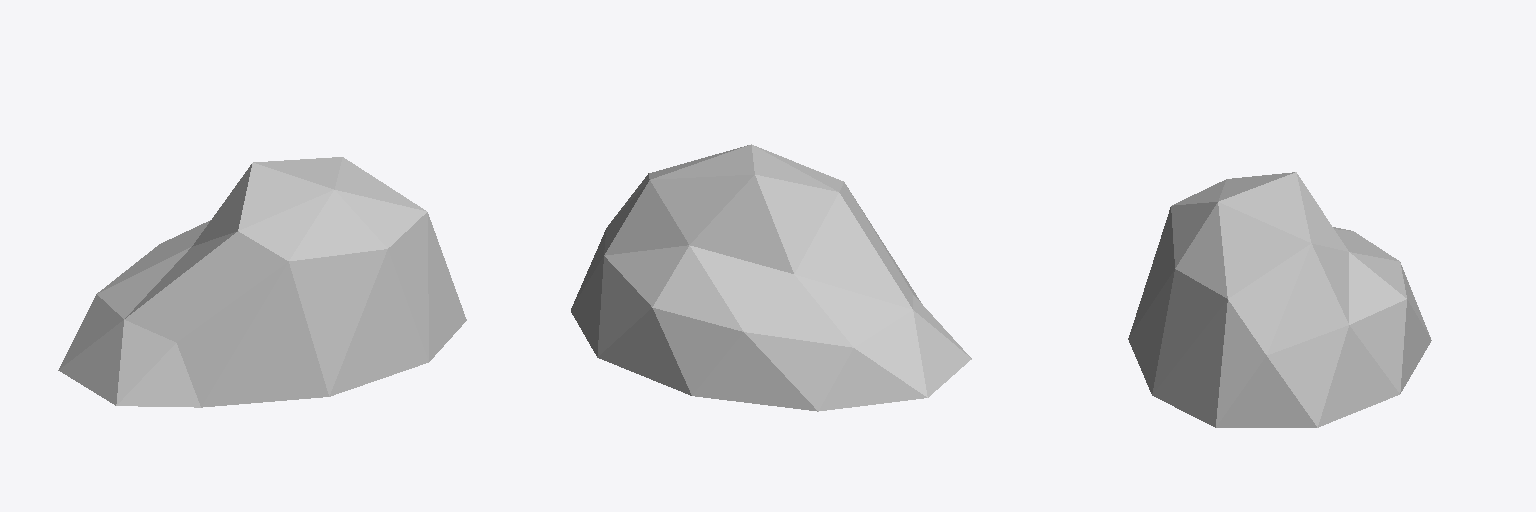
File: Rock_1_001.obj
The picture shows the model from 3 angles: view 1: azimuth 30°, elevation 25°; view 2: azimuth 150°, elevation 25°; view 3: azimuth 270°, elevation 25°; orthographic projection.
Parts seen in each view (by area): view 1: Icosphere; view 2: Icosphere; view 3: Icosphere.
Boxes of the visible parts, x1,y1,x2,y2 form: Icosphere: [58, 157, 466, 407]; Icosphere: [571, 144, 971, 411]; Icosphere: [1128, 172, 1431, 427].
Size of the model in its own units: 2.5 by 1.15 by 1.84.